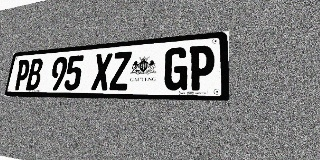5: (64, 55, 84, 90)
9: (49, 56, 68, 90)
B: (25, 58, 44, 90)
G: (163, 47, 189, 90)
P: (188, 45, 215, 90), (13, 59, 31, 90)
X: (91, 53, 113, 90)
Z: (109, 51, 132, 90)
